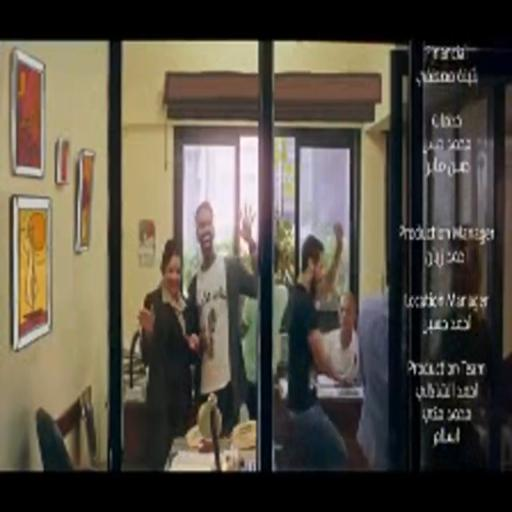nao-violencia: (128, 183, 259, 472), (271, 205, 381, 470)
